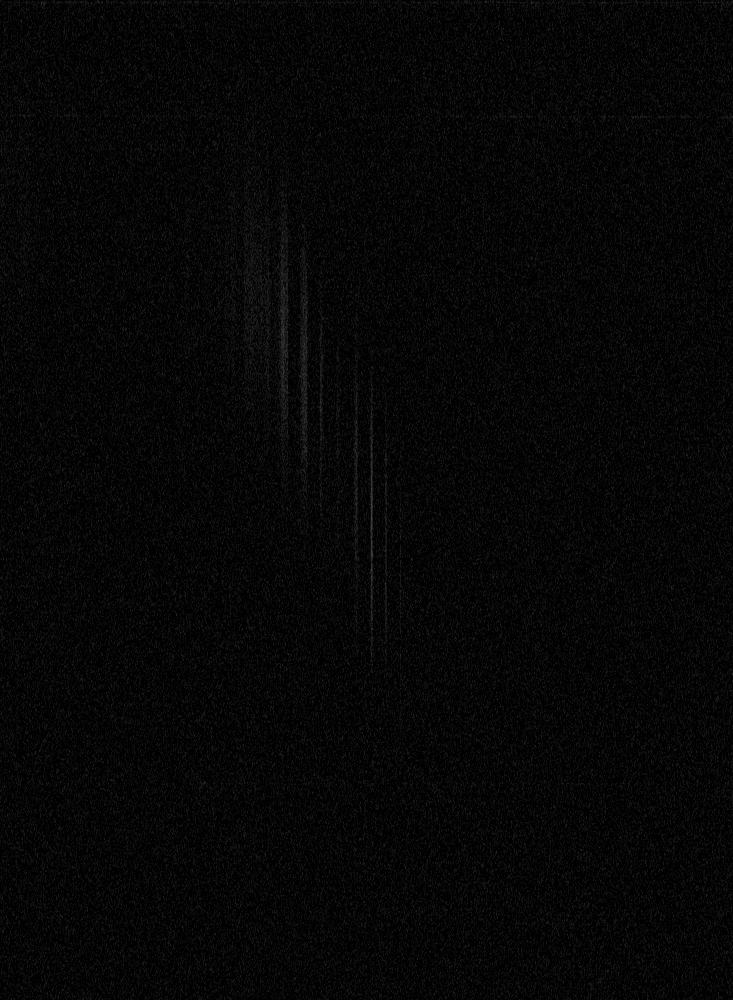signal: (0, 0, 732, 999)
